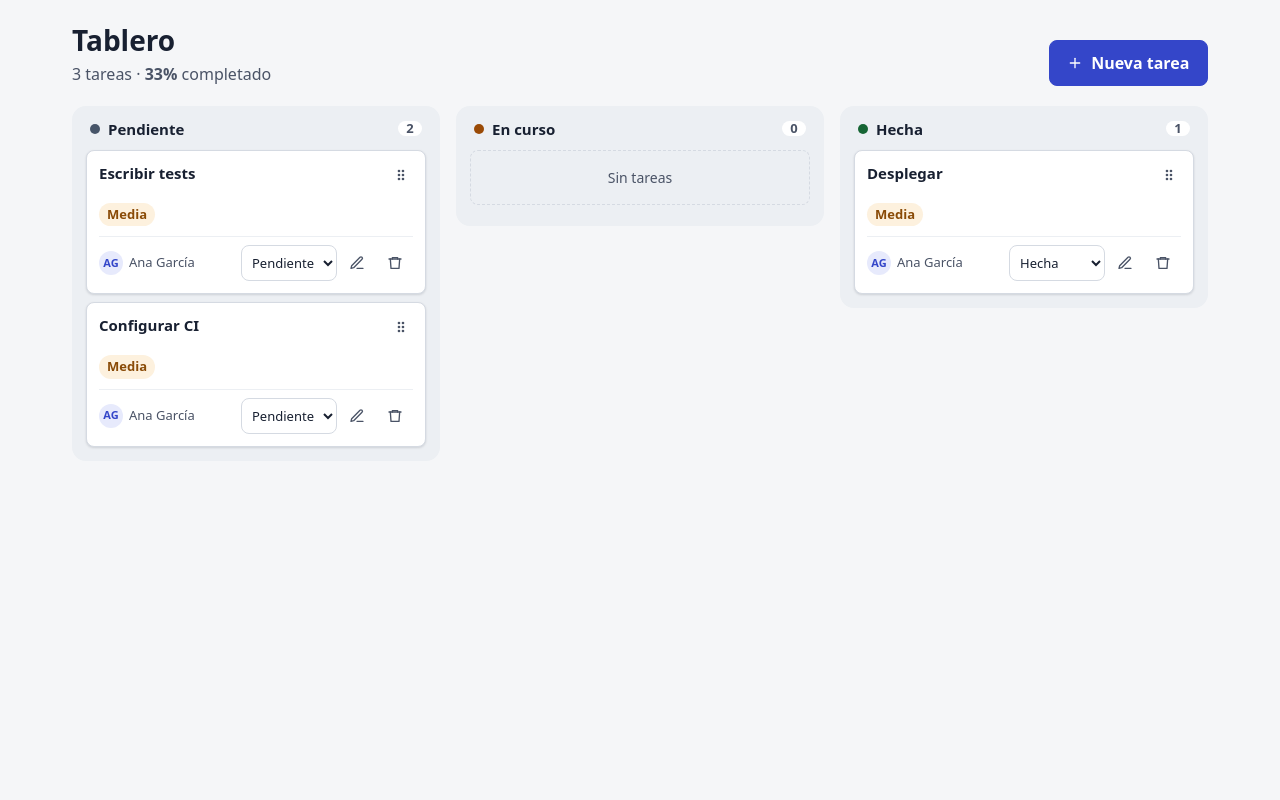
Test: Tablero › cambia de columna con el selector de estado y lo anuncia
The image size is (1280, 800).
Select "En curso" in the dropdown named "Estado de «Escribir tests»" below "Escribir tests" at (289, 263), box [241,245,337,281]
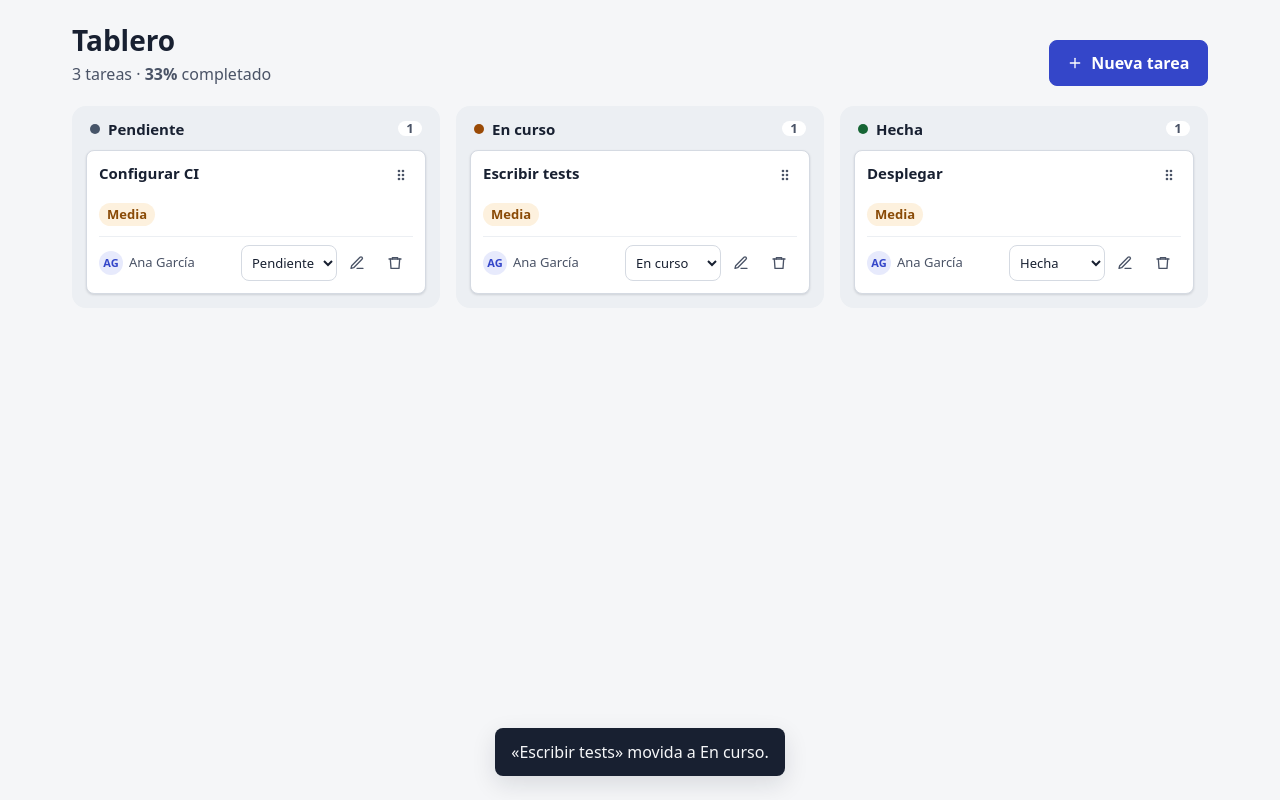
Expected: the link "Escribir tests" is shown, [483,163,580,183]
Result: the text "«Escribir tests» movida a En curso." is shown at [495,728,785,776]
